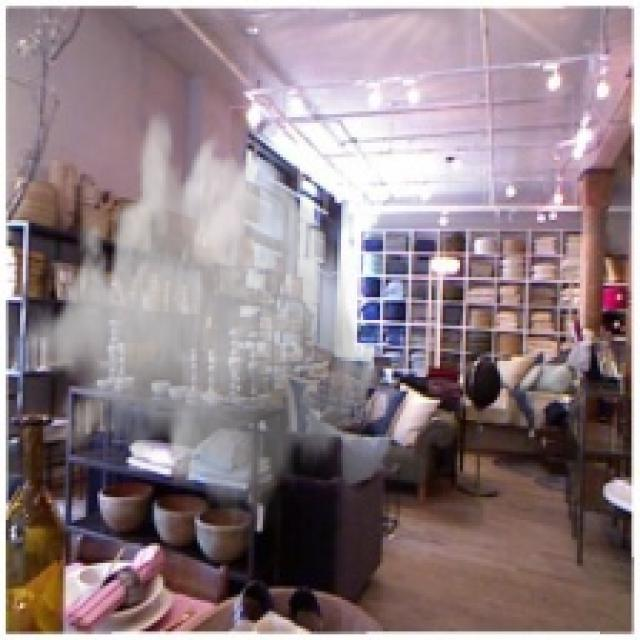smoke: (23, 109, 383, 534)
